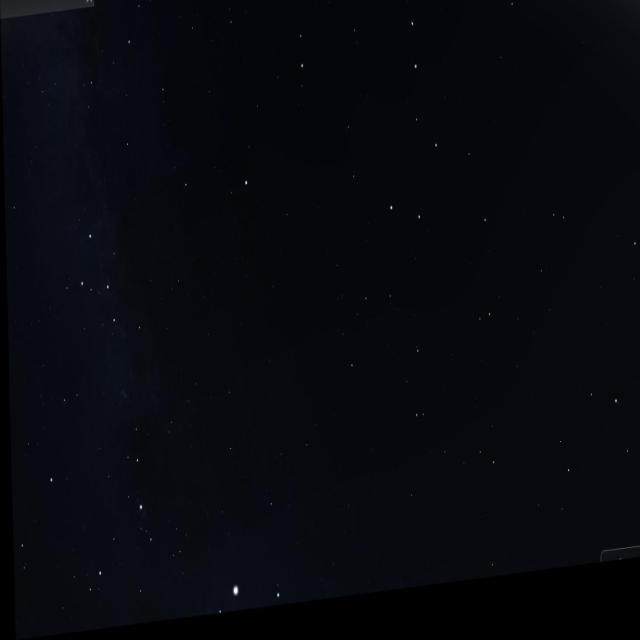ursa_major: (373, 0, 457, 256)
